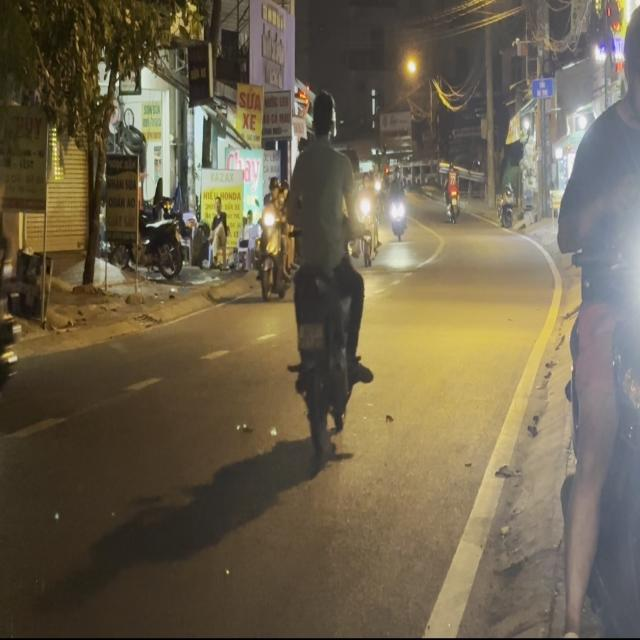licenseplate: (282, 84, 370, 473)
motorcyclist: (306, 88, 336, 141)
